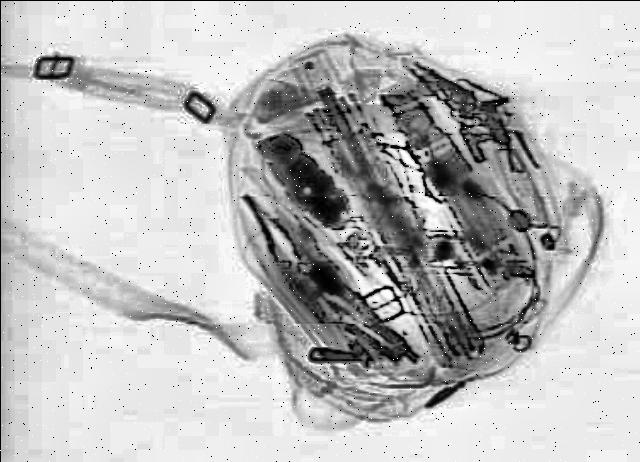Pliers: (226, 192, 304, 268)
